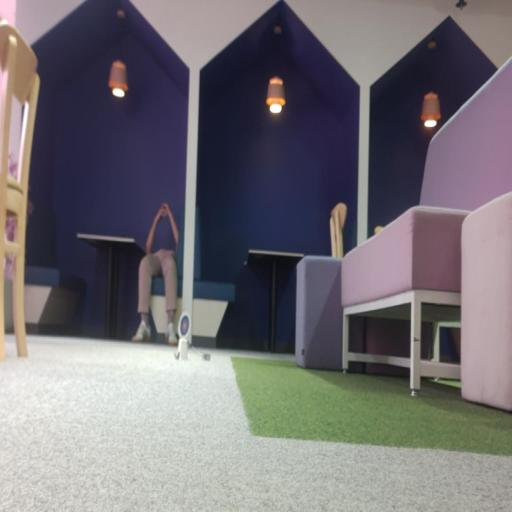target: (178, 311, 191, 343)
